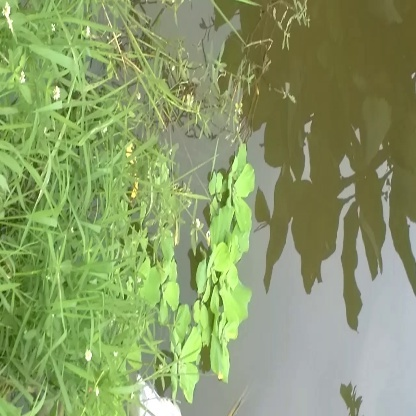leaf: (201, 145, 260, 246)
